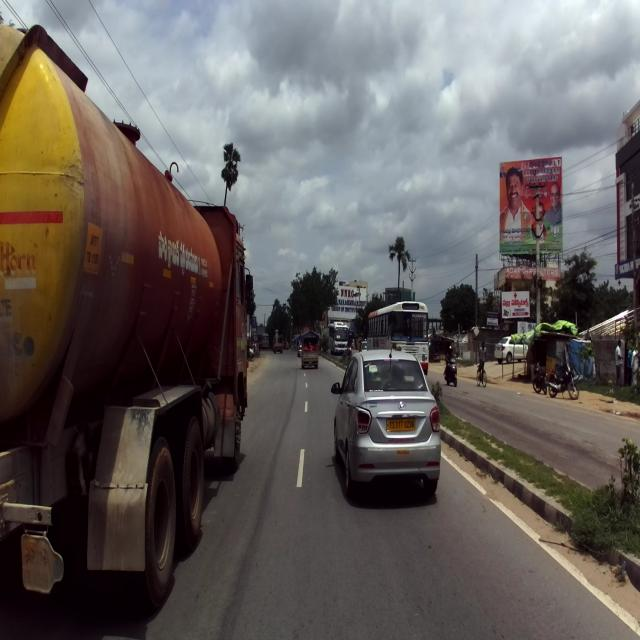car: (330, 342, 442, 504)
truck: (0, 23, 254, 639)
